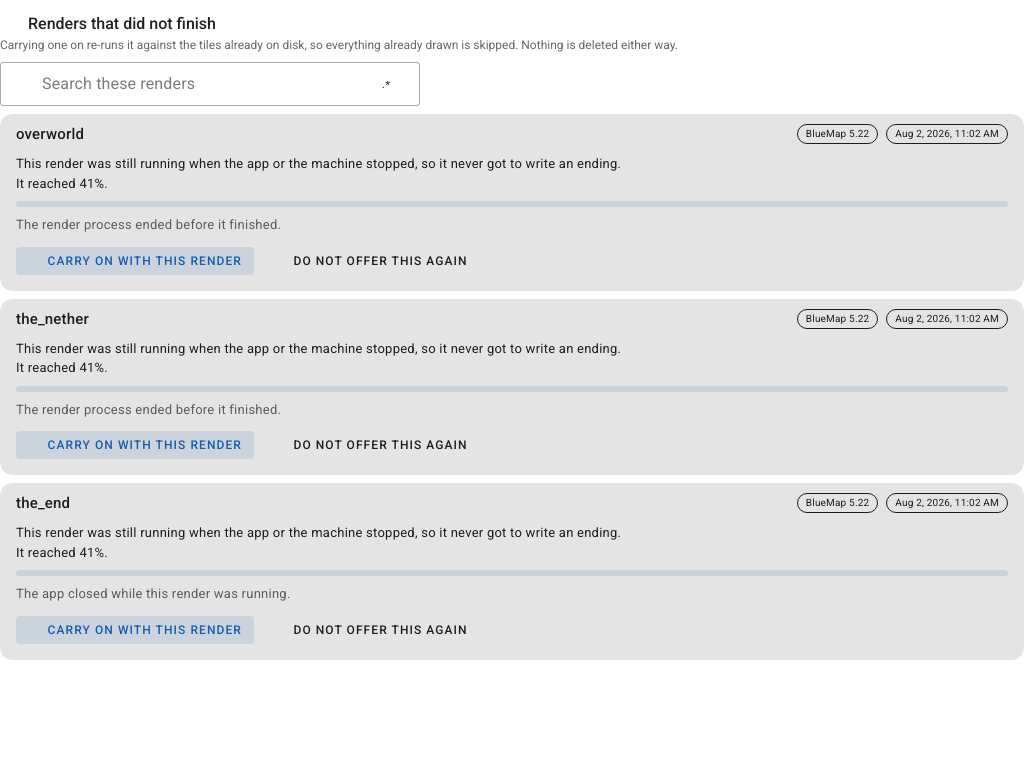
it: the builder, opened from this field › applies its pattern to this list, and turns regex on by doing so
Click the button named "Open the regex builder" at (386,84), box left=364, top=62, right=408, bottom=106
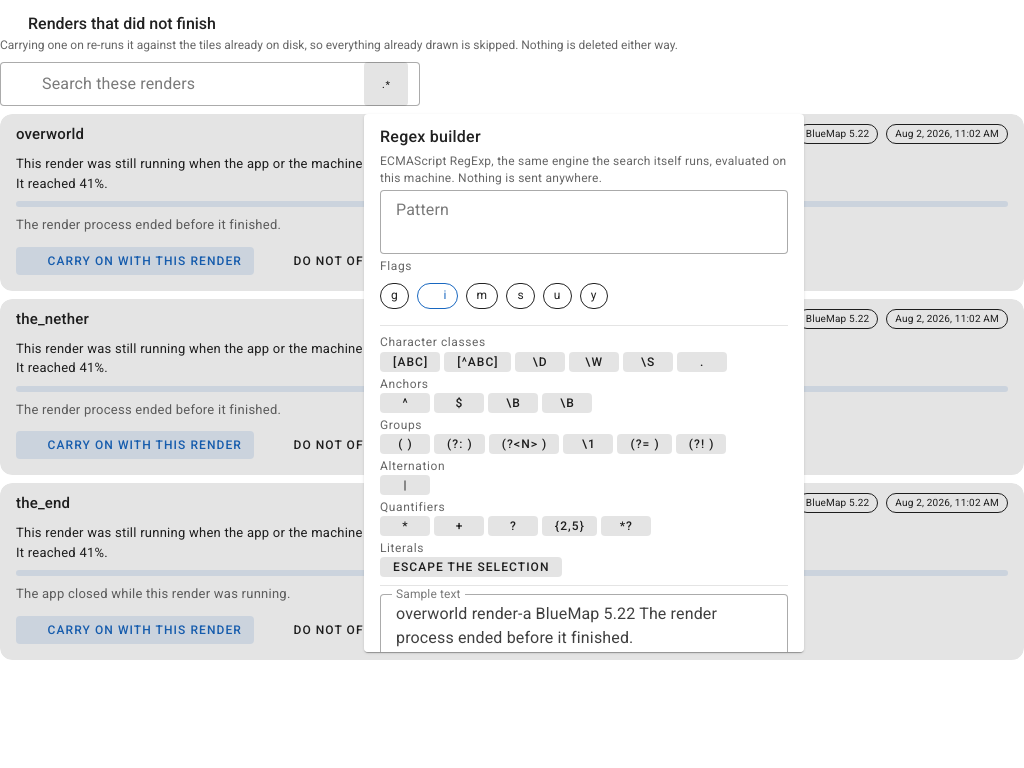
Type "^the_(nether|end)$" into the text box labelled "Pattern" at (584,222), box left=380, top=190, right=788, bottom=254
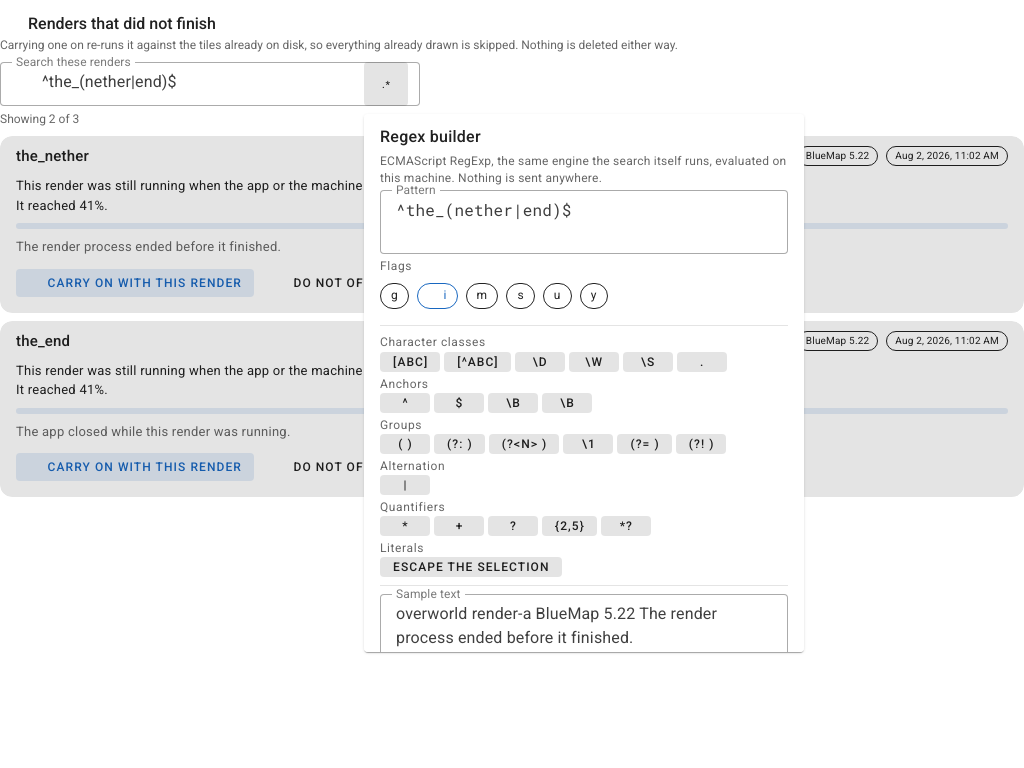
Expected: the search field labelled "Search these renders" holds "^the_(nether|end)$", left=36, top=62, right=276, bottom=102
